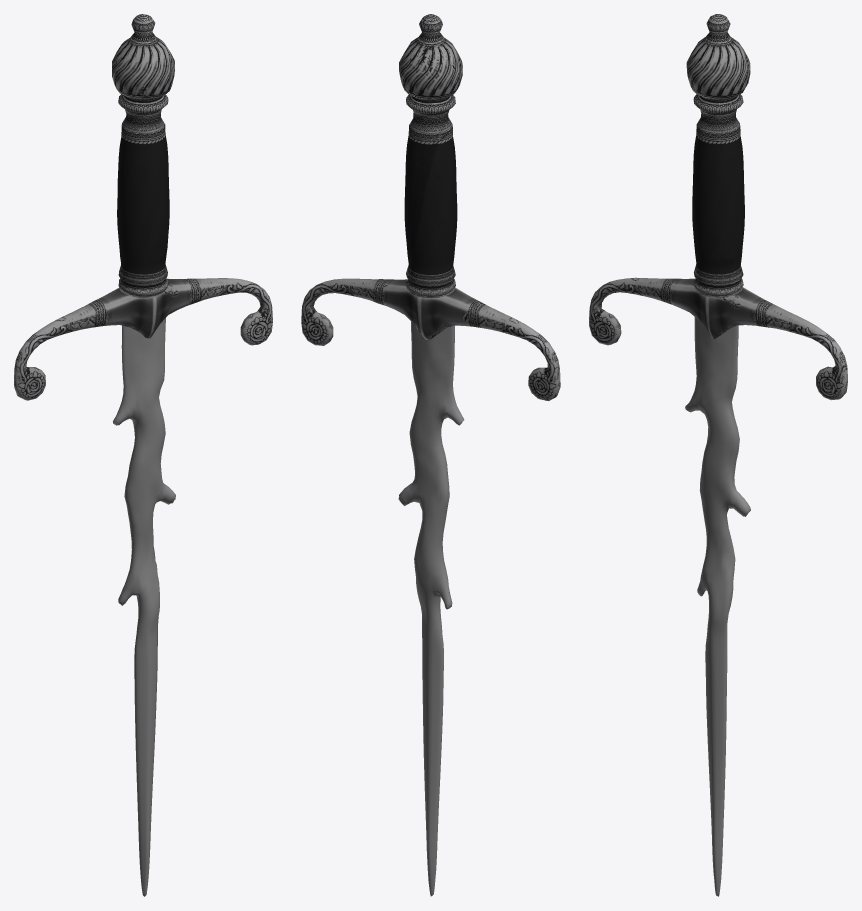
File: dagger-hd.glb
3 views of the same model, side by side, from view 1: azimuth 30°, elevation 25°; view 2: azimuth 150°, elevation 25°; view 3: azimuth 330°, elevation 25° (orthographic).
Parts seen in each view (by area): view 1: Daga2_low; view 2: Daga2_low; view 3: Daga2_low.
Boxes of the visible parts, left/top/right/bottom form: Daga2_low: left=14, top=14, right=272, bottom=896; Daga2_low: left=301, top=14, right=560, bottom=896; Daga2_low: left=589, top=14, right=847, bottom=896.
Size of the model in its own units: 14.35 by 46.95 by 3.1.
1 material, 1 textured.
